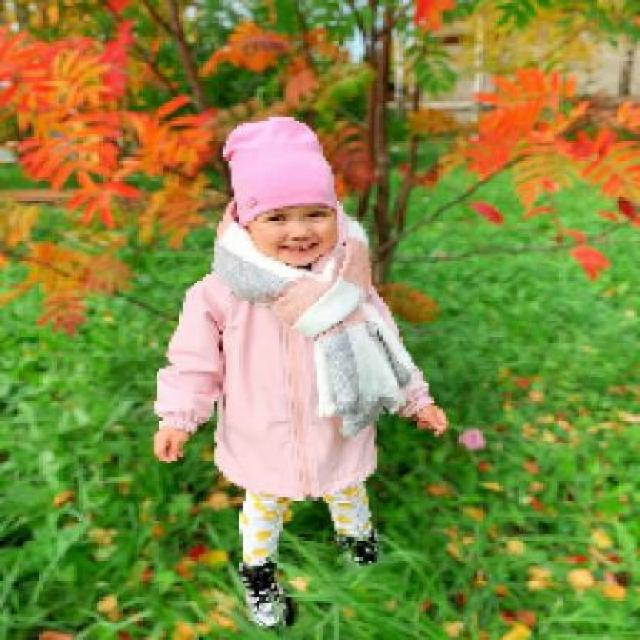child: (153, 114, 450, 632)
